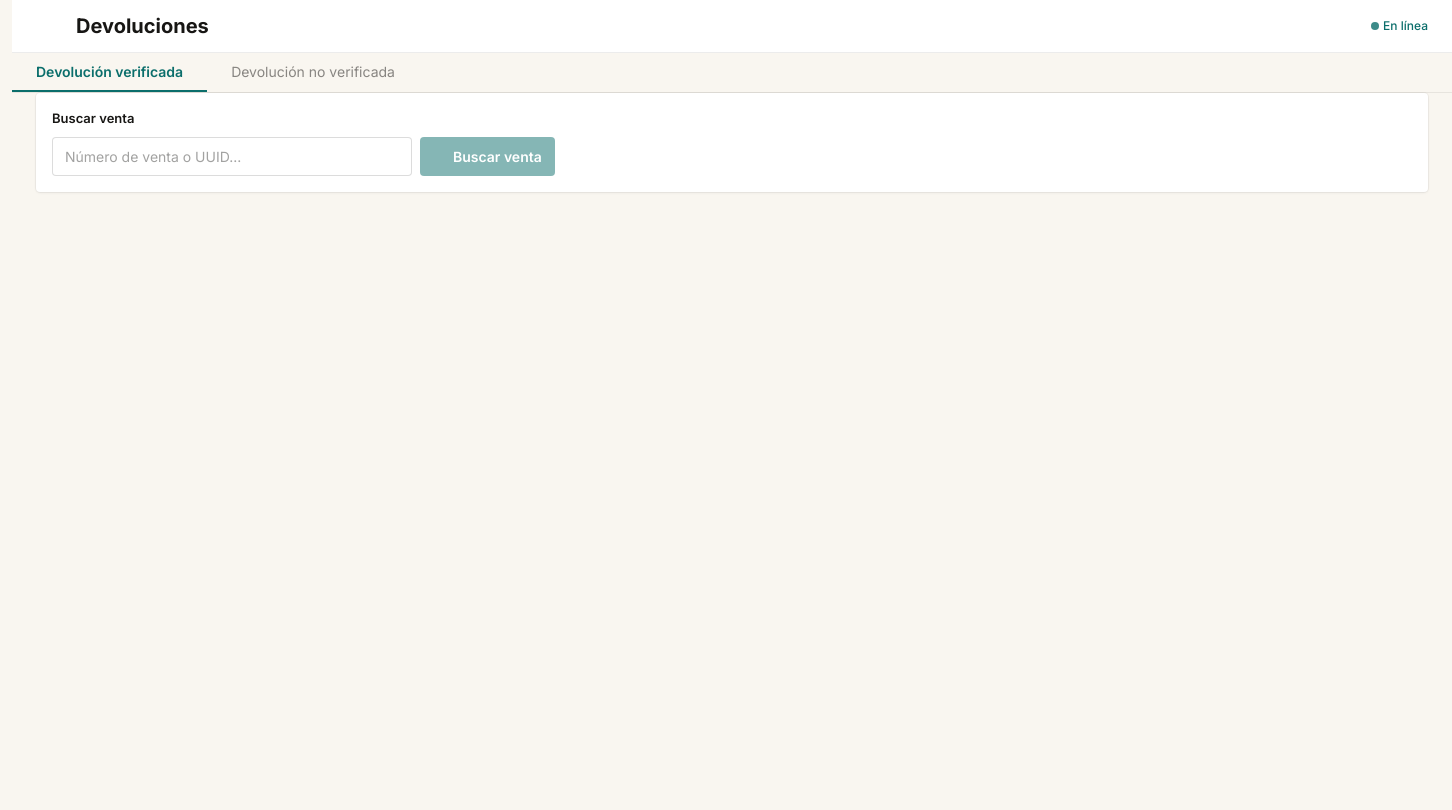
Test case: ReturnsPage › RETP-08: submit unverified return › keeps submit disabled until an item and a valid PIN are present
Click the tab "Devolución no verificada" at (313, 72), box [207,53,419,92]
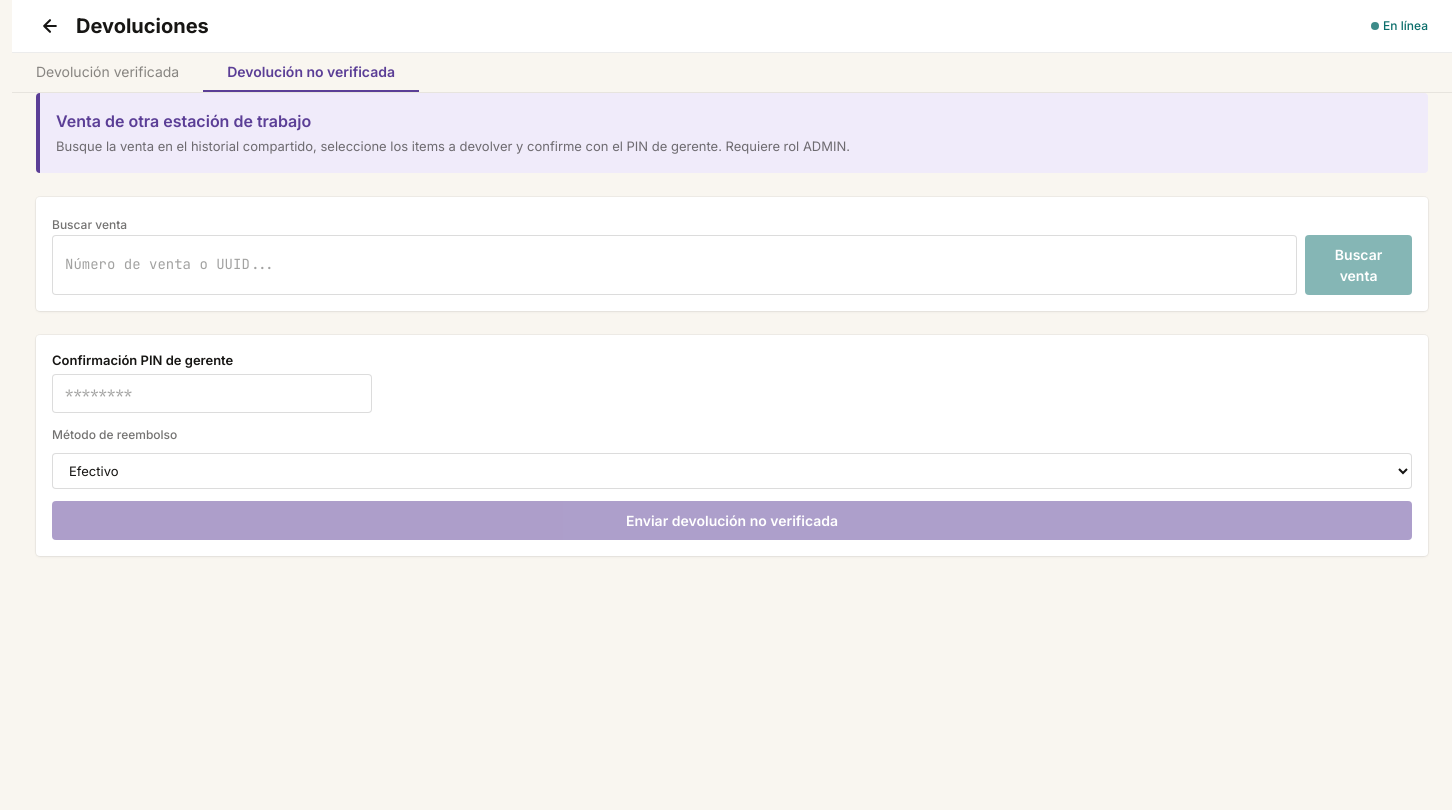
Check: the button "Enviar devolución no verificada" is disabled, box [52,501,1412,540]
// A valid PIN alone is not enough: no sale item is selected yet.
Type "1234" into the password field labelled "Confirmación PIN de gerente" at (212, 394), box [52,374,372,413]
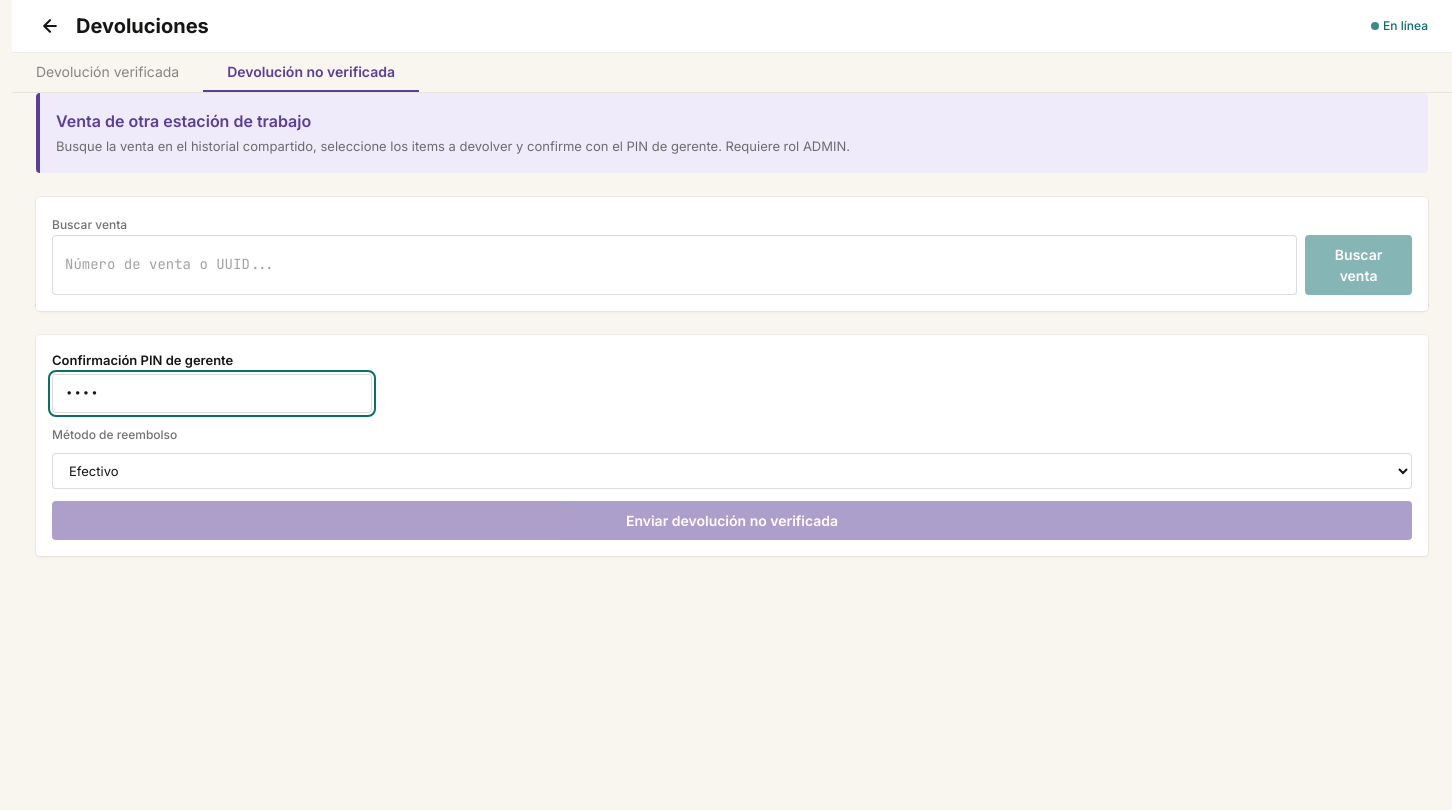
Check: the button "Enviar devolución no verificada" is disabled, box [52,501,1412,540]
Type "42" into the field with placeholder "Número de venta o UUID..." at (674, 264), box [52,234,1297,294]
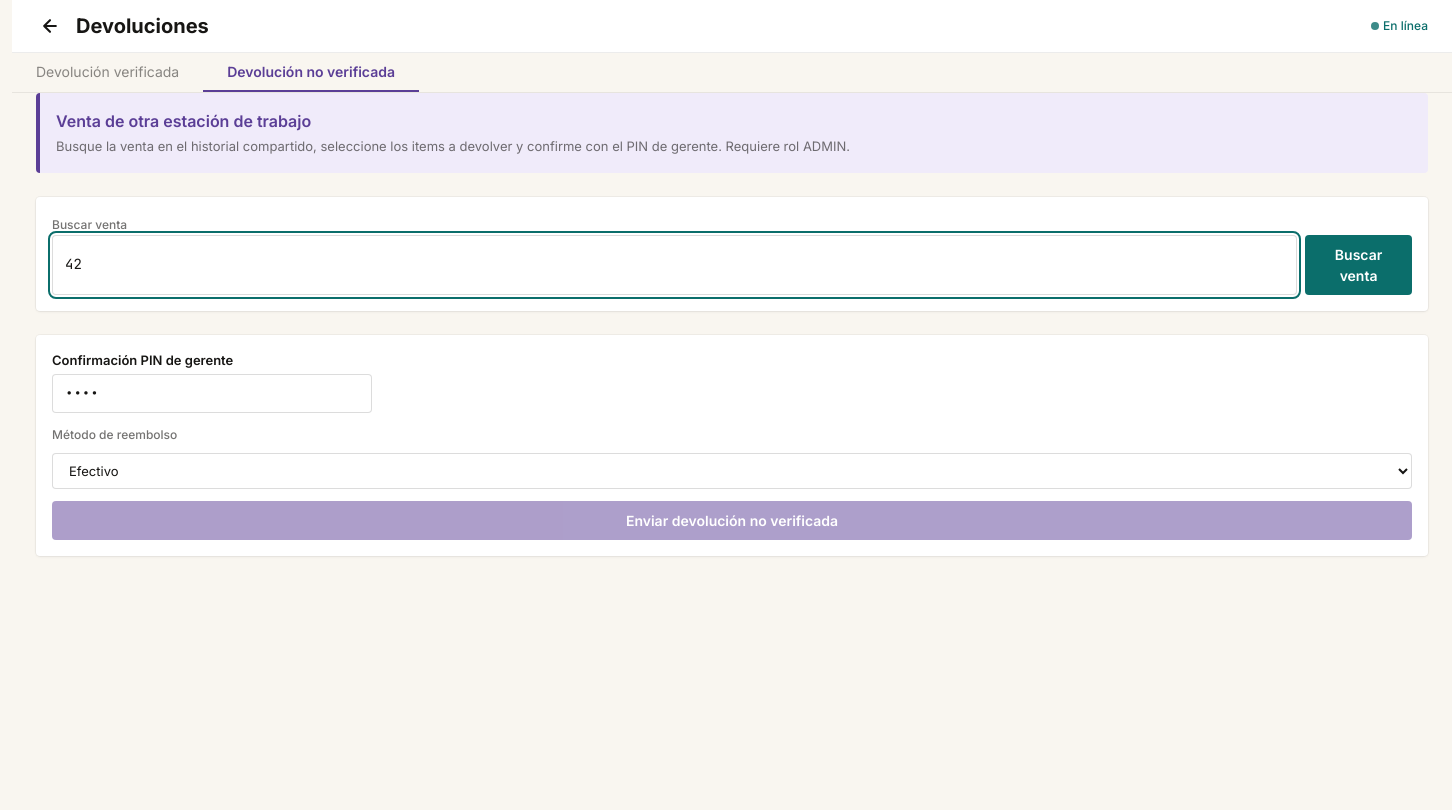
Click the button "Buscar venta" at (1358, 264), box [1305,234,1412,294]
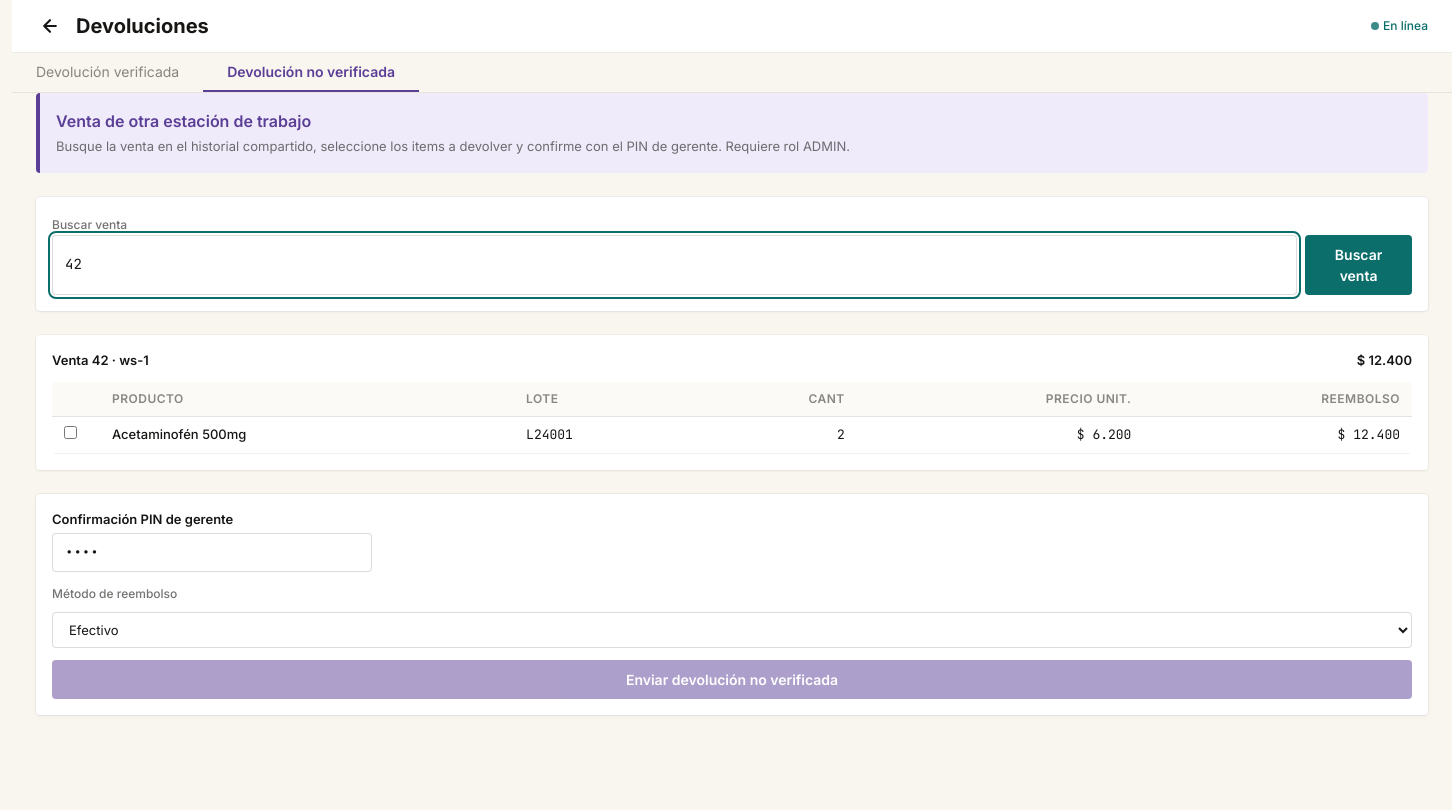
Check: the checkbox named "Seleccionar item: Acetaminofén 500mg" is shown
// Now both a real item and a PIN are present.
Click the checkbox named "Seleccionar item: Acetaminofén 500mg" at (70, 432), box [64,426,77,439]
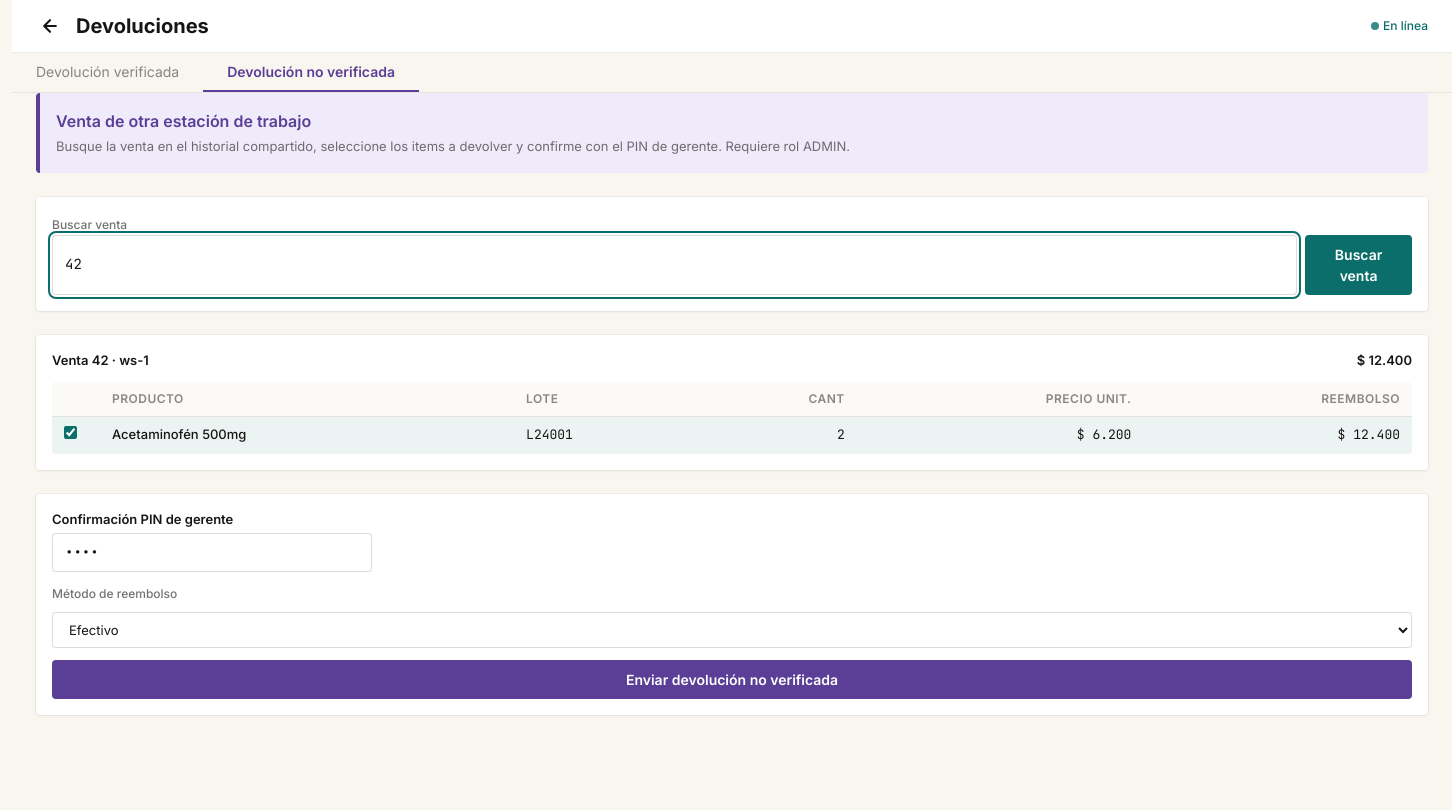
Check: the button "Enviar devolución no verificada" is enabled, box [52,660,1412,699]
